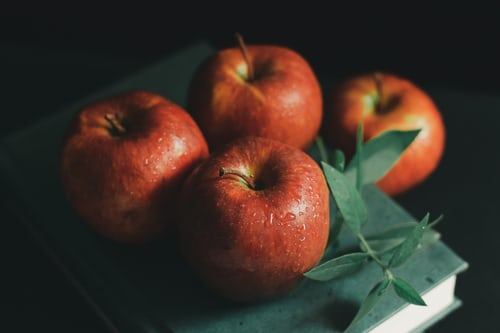apple: (58, 88, 212, 253), (187, 134, 331, 306), (180, 29, 325, 151), (325, 71, 446, 197)
